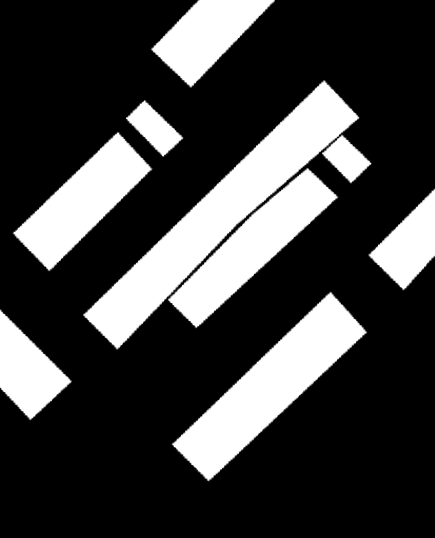parkingspot: (83, 81, 371, 349), (172, 292, 367, 481), (168, 168, 338, 328), (13, 132, 152, 271), (151, 0, 275, 87), (0, 310, 72, 420), (369, 189, 435, 290), (126, 100, 183, 157), (336, 136, 340, 139)
